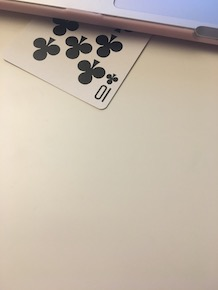TenOfClubs: (1, 15, 155, 112)
